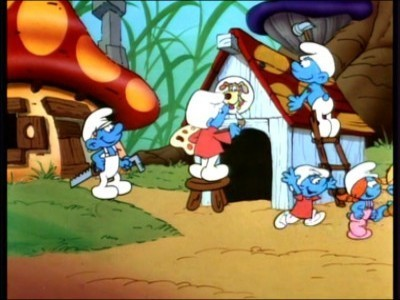smurf: (180, 88, 243, 181), (284, 40, 343, 139), (79, 105, 134, 200), (275, 162, 335, 232), (343, 158, 381, 241)
